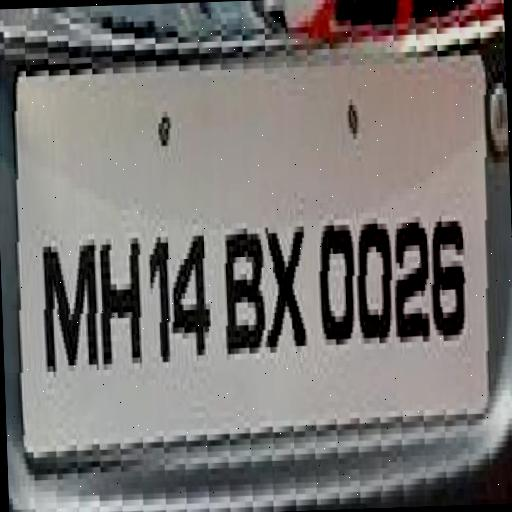number plate: (0, 20, 502, 481)
